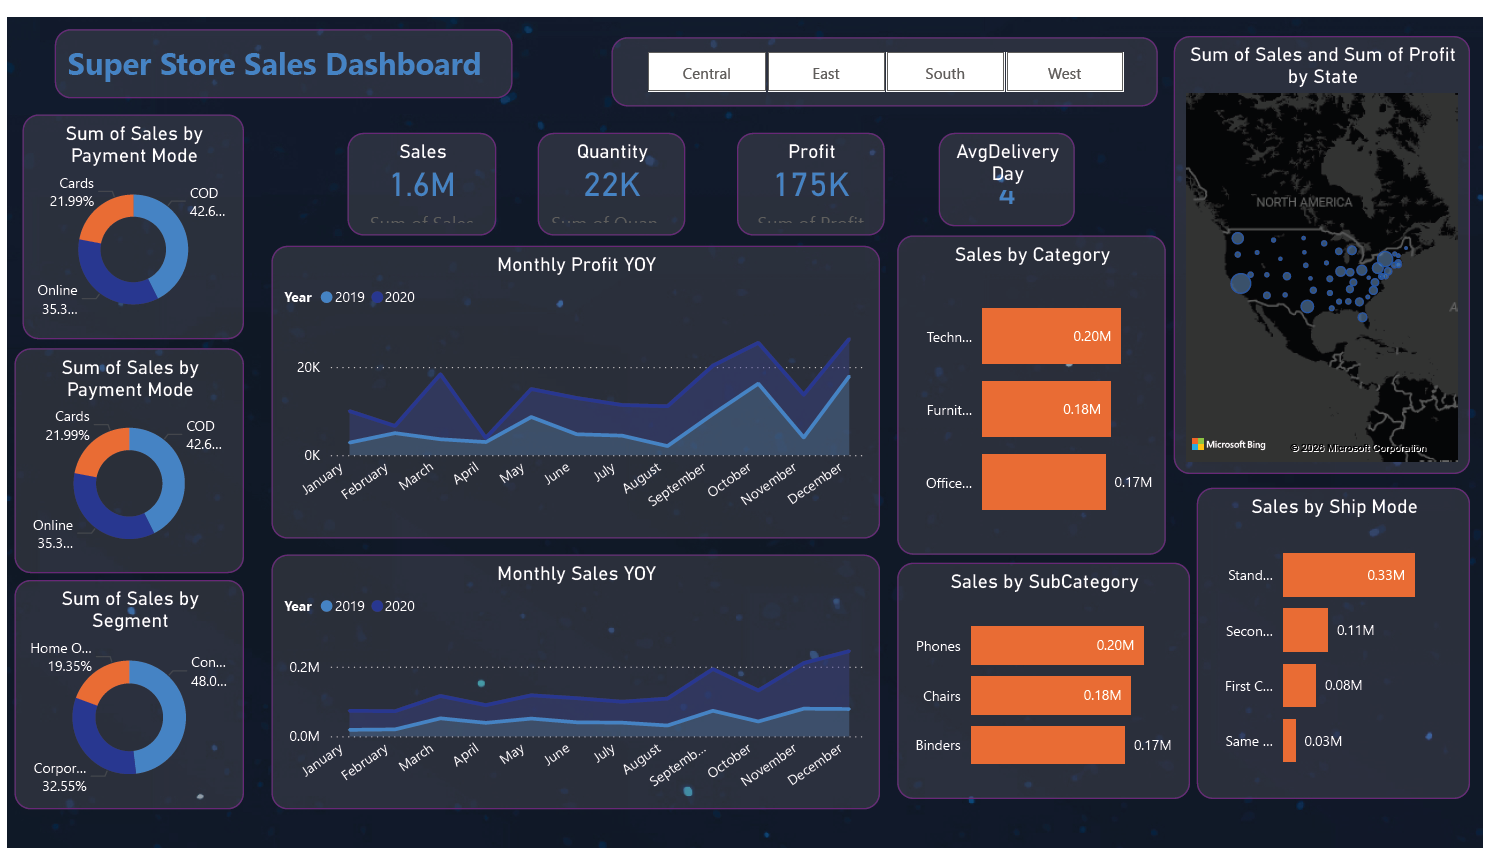

This screenshot's page, from the dashboard's own definition file:
{"tool":"powerbi","page":{"name":"Page 1","canvas":[1280,720],"ordinal":0},"visuals":[{"type":"clusteredBarChart","title":" Sales by SubCategory","fields":{"Category":["Sheet1.Sub-Category"],"Y":["Sum(Sheet1.Sales)"]},"box":[772.1,473.1,254.1,204.7],"z":0},{"type":"clusteredBarChart","title":" Sales by Ship Mode","fields":{"Category":["Sheet1.Ship Mode"],"Y":["Sum(Sheet1.Sales)"]},"box":[1032.4,407.6,237,270.2],"z":1000},{"type":"stackedAreaChart","title":" Monthly  Sales YOY","fields":{"Category":["Sheet1.Order Date.Variation.Date Hierarchy.Month"],"Y":["Sum(Sheet1.Sales)"],"Series":["Sheet1.Order Date.Variation.Date Hierarchy.Year"]},"box":[229.1,466,528.4,221.3],"z":2000},{"type":"stackedAreaChart","title":" Monthly  Profit YOY","fields":{"Category":["Sheet1.Order Date.Variation.Date Hierarchy.Month"],"Series":["Sheet1.Order Date.Variation.Date Hierarchy.Year"],"Y":["Sum(Sheet1.Profit)"]},"box":[229.1,197.9,528.4,254.4],"z":3000},{"type":"map","fields":{"Category":["Sheet1.State"],"Size":["Sum(Sheet1.Sales)"]},"box":[1011.8,16.2,257.7,379.8],"z":4000},{"type":"donutChart","fields":{"Category":["Sheet1.Segment"],"Y":["Sum(Sheet1.Sales)"]},"box":[6.3,488.4,198.4,198.4],"z":5000},{"type":"donutChart","fields":{"Category":["Sheet1.Payment Mode","Sheet1.Segment"],"Y":["Sum(Sheet1.Sales)"]},"box":[6.3,287.3,198.4,194.8],"z":6000},{"type":"slicer","fields":{"Values":["Sheet1.Region"]},"box":[524.5,16.6,473.8,60.4],"z":7000},{"type":"textbox","box":[40.9,9.7,396.8,60.4],"z":8000},{"type":"card","title":"Sales","fields":{"Values":["Sum(Sheet1.Sales)"]},"box":[295.4,100.4,128.7,88.7],"z":9000},{"type":"card","title":"Quantity","fields":{"Values":["Sum(Sheet1.Quantity)"]},"box":[460.1,100.4,127.7,88.7],"z":10000},{"type":"card","title":"AvgDelivery Day","fields":{"Values":["Avg(Sheet1.AvgDelivery)"]},"box":[808.2,100.4,118,80.9],"z":11000},{"type":"clusteredBarChart","title":" Sales by Category","fields":{"Y":["Sum(Sheet1.Sales)"],"Category":["Sheet1.Category"]},"box":[772.1,189.4,233.4,276.5],"z":12000},{"type":"card","title":"Profit","fields":{"Values":["Sum(Sheet1.Profit)"]},"box":[632.7,100.4,128.7,88.7],"z":13000},{"type":"donutChart","fields":{"Category":["Sheet1.Payment Mode","Sheet1.Segment"],"Y":["Sum(Sheet1.Sales)"]},"box":[13.5,84.4,191.2,194.8],"z":14000}]}

Visuals, with their boxes in screenshot pixels (x1, y1, x2, y2), scaled from the page's 1280x720 canvas onto the 1501x851 screenshot:
" Sales by SubCategory" clusteredBarChart: [x1=905, y1=559, x2=1203, y2=801]
" Sales by Ship Mode" clusteredBarChart: [x1=1211, y1=482, x2=1489, y2=801]
" Monthly  Sales YOY" stackedAreaChart: [x1=269, y1=551, x2=888, y2=812]
" Monthly  Profit YOY" stackedAreaChart: [x1=269, y1=234, x2=888, y2=535]
map - Sheet1.State x Sum(Sheet1.Sales): [x1=1186, y1=19, x2=1489, y2=468]
donutChart - Sheet1.Segment x Sum(Sheet1.Sales): [x1=7, y1=577, x2=240, y2=812]
donutChart - Sheet1.Payment Mode x Sheet1.Segment: [x1=7, y1=340, x2=240, y2=570]
slicer - Sheet1.Region: [x1=615, y1=20, x2=1171, y2=91]
textbox: [x1=48, y1=11, x2=513, y2=83]
"Sales" card: [x1=346, y1=119, x2=497, y2=224]
"Quantity" card: [x1=540, y1=119, x2=689, y2=224]
"AvgDelivery Day" card: [x1=948, y1=119, x2=1086, y2=214]
" Sales by Category" clusteredBarChart: [x1=905, y1=224, x2=1179, y2=551]
"Profit" card: [x1=742, y1=119, x2=893, y2=224]
donutChart - Sheet1.Payment Mode x Sheet1.Segment: [x1=16, y1=100, x2=240, y2=330]
